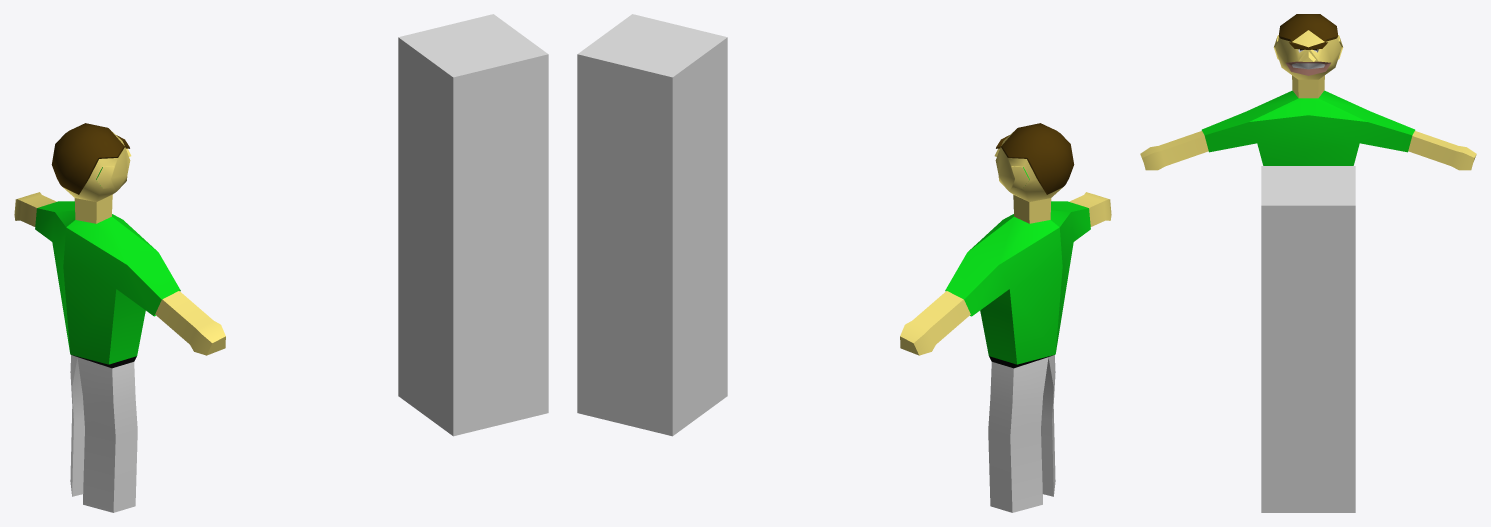
Rendered from PantsMe.fbx.
3 views of the same model, side by side, from view 1: azimuth 30°, elevation 25°; view 2: azimuth 150°, elevation 25°; view 3: azimuth 270°, elevation 25° (orthographic). The views are drawn at different scales.
Parts seen in each view (by area): view 1: Cube.001, Icosphere; view 2: Cube.001, Icosphere; view 3: Cube.001, Icosphere.
Part boxes in pixels (bbox=[...]): Cube.001: bbox=[398, 14, 548, 436]; Icosphere: bbox=[14, 123, 225, 512]; Cube.001: bbox=[577, 14, 727, 436]; Icosphere: bbox=[900, 123, 1111, 512]; Cube.001: bbox=[1261, 166, 1355, 512]; Icosphere: bbox=[1140, 14, 1476, 170].
Bounding box in the file's own units: 243 × 186 × 179.
